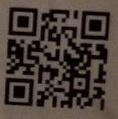qrcode: (5, 8, 112, 112)
